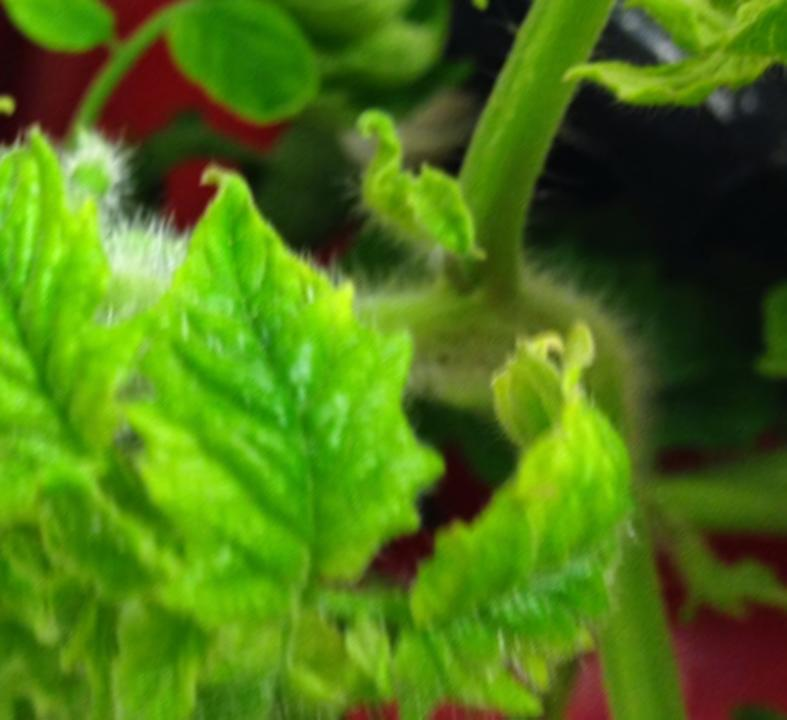Tomato leaf yellow virus: (157, 152, 455, 668), (408, 289, 636, 720), (0, 69, 138, 564)
